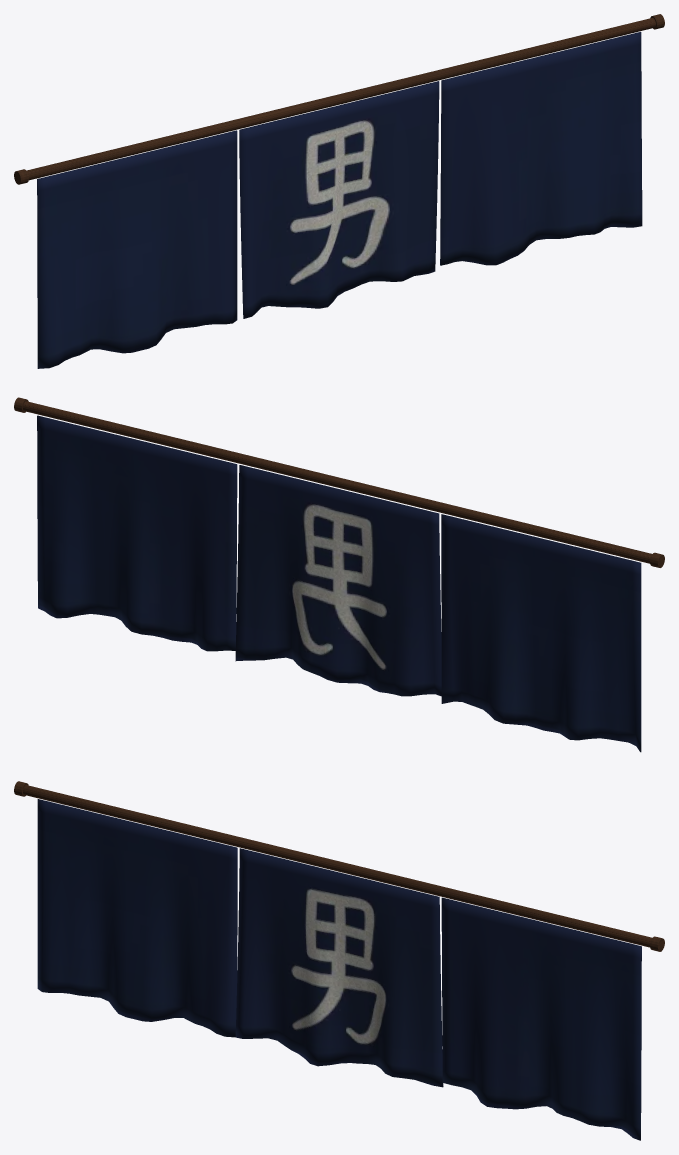
The model's file is noren.mobile.glb.
3 renders of one model, top to bottom at view 1: azimuth 30°, elevation 25°; view 2: azimuth 150°, elevation 25°; view 3: azimuth 330°, elevation 25°, orthographic.
Visible parts, largest first — view 1: Cloth_2, Cloth_0, Cloth_1, Rod; view 2: Cloth_1, Cloth_2, Cloth_0, Rod; view 3: Cloth_1, Cloth_0, Cloth_2, Rod.
Part boxes in pixels (x1=…): Cloth_2: x1=440, y1=32, x2=642, y2=265; Cloth_0: x1=37, y1=130, x2=237, y2=368; Cloth_1: x1=239, y1=81, x2=439, y2=318; Rod: x1=26, y1=18, x2=655, y2=180; Cloth_1: x1=235, y1=465, x2=441, y2=696; Cloth_2: x1=37, y1=415, x2=237, y2=651; Cloth_0: x1=441, y1=514, x2=641, y2=752; Rod: x1=23, y1=401, x2=652, y2=563; Cloth_1: x1=235, y1=848, x2=443, y2=1087; Cloth_0: x1=37, y1=799, x2=237, y2=1037; Cloth_2: x1=441, y1=897, x2=641, y2=1140; Rod: x1=23, y1=785, x2=652, y2=947.
Size of the model in its own units: 3.2 by 0.9801 by 0.0943.
Materials: 2 (2 with a texture image).
